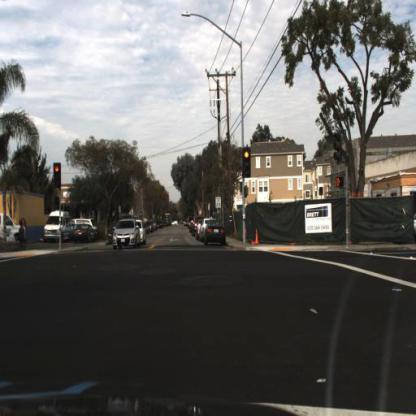car: (111, 216, 143, 252), (1, 206, 28, 247), (44, 209, 74, 245), (203, 217, 229, 247), (72, 220, 98, 244), (136, 217, 149, 244)
pedestrian: (16, 219, 29, 251)
trafficLight: (241, 145, 253, 178)
trafficLight-Red: (51, 165, 63, 195), (335, 175, 346, 192)
